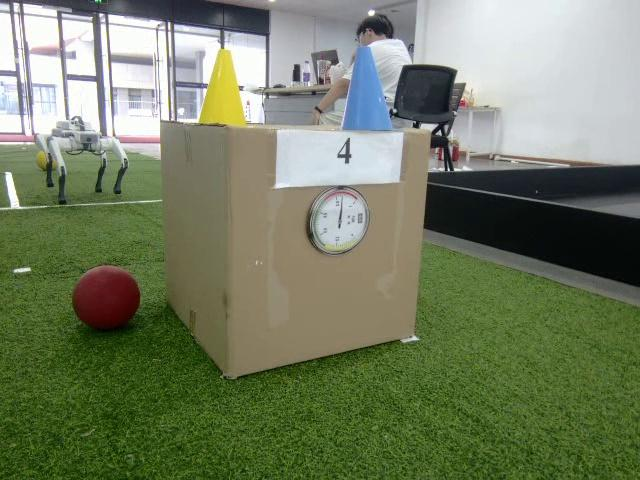4: (337, 137, 355, 166)
Dashboard: (308, 186, 371, 255)
blue_barrel: (337, 46, 397, 131)
red_ball: (73, 265, 141, 332)
ssi: (358, 214, 366, 224)
yellow_barrel: (200, 47, 248, 125)
